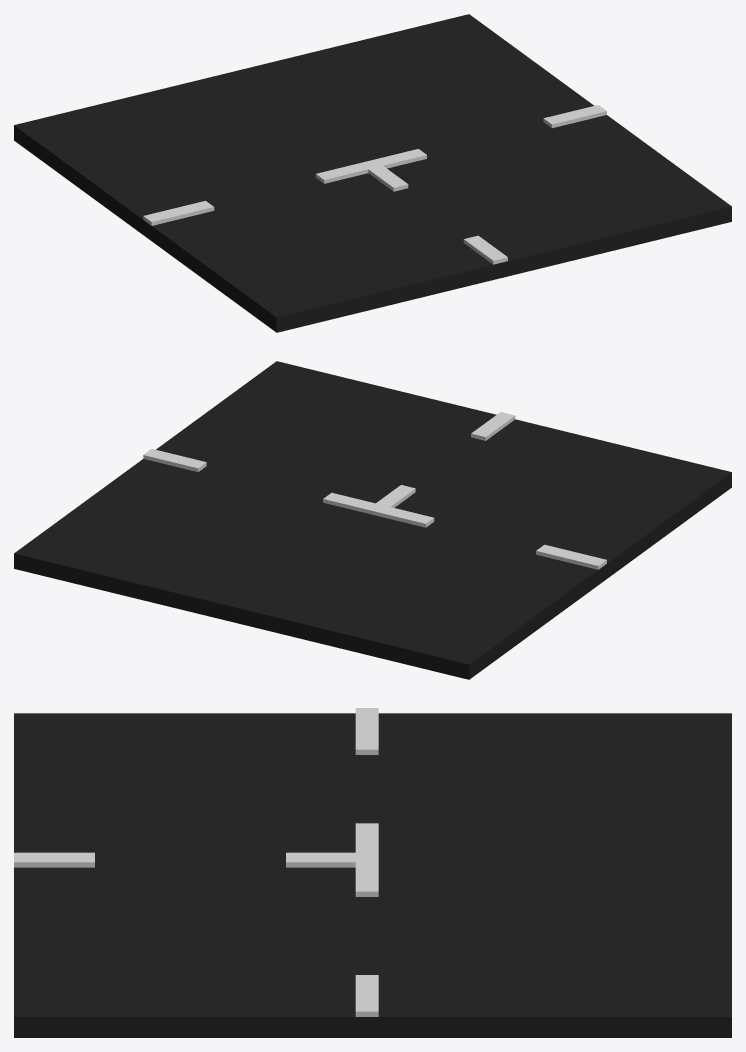
File: tile carretera curvadoble.obj
3 renders of one model, top to bottom at view 1: azimuth 30°, elevation 25°; view 2: azimuth 150°, elevation 25°; view 3: azimuth 270°, elevation 25°, orthographic. The views are drawn at different scales.
Bounding box in the file's own units: 12.4 × 0.5 × 12.4.
Materials: 1 (1 with a texture image).
